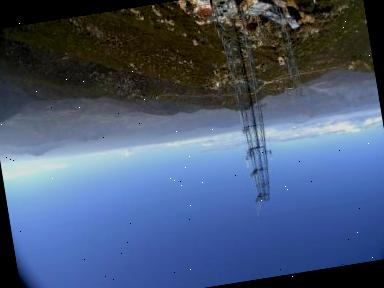smoke: (307, 76, 379, 112)
